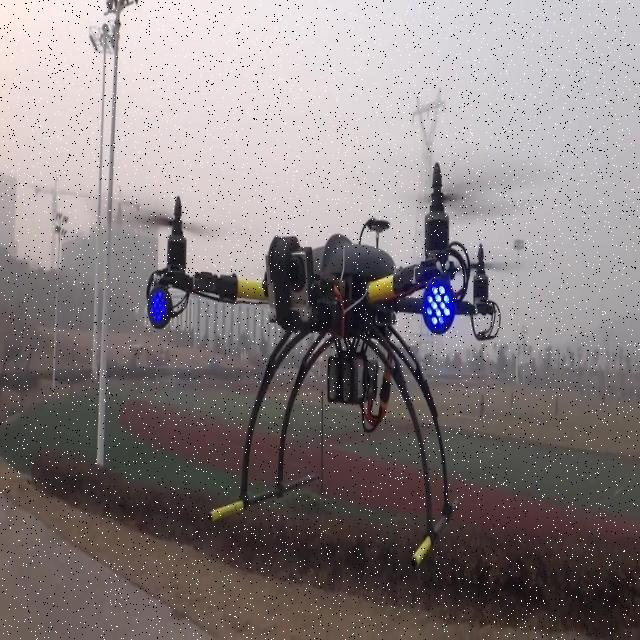UAV: (136, 163, 520, 567)
